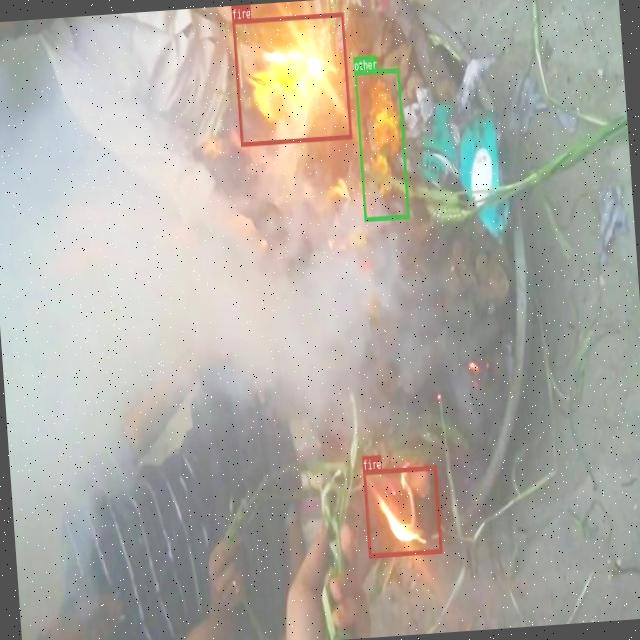fire: (232, 11, 351, 146), (362, 464, 442, 556)
